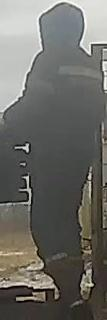vest: (25, 52, 99, 191)
